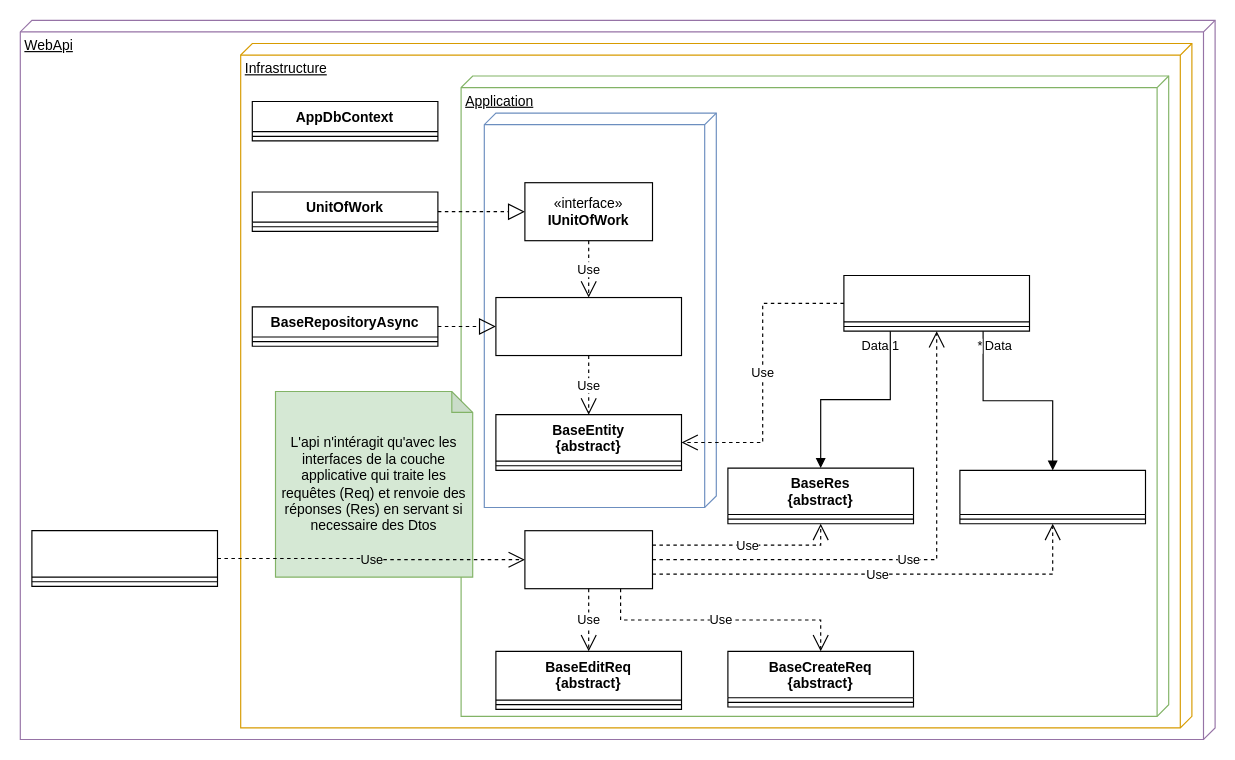
The diagram is 1235 pixels wide and 760 high, and some of its shapes have lost their labels. Here are the shapes that lost their labels. From the top down, the box of each, then its label:
(483, 112, 716, 507): Domain
(843, 274, 1030, 331): BaseDto {abstract}
(495, 296, 682, 356): «interface» IBaseRepositoryAsync
(959, 469, 1146, 524): MultipleBaseRes {abstract}
(31, 530, 217, 586): BaseControllerApp {abstract}
(524, 530, 652, 589): «interface» ICustomerService
